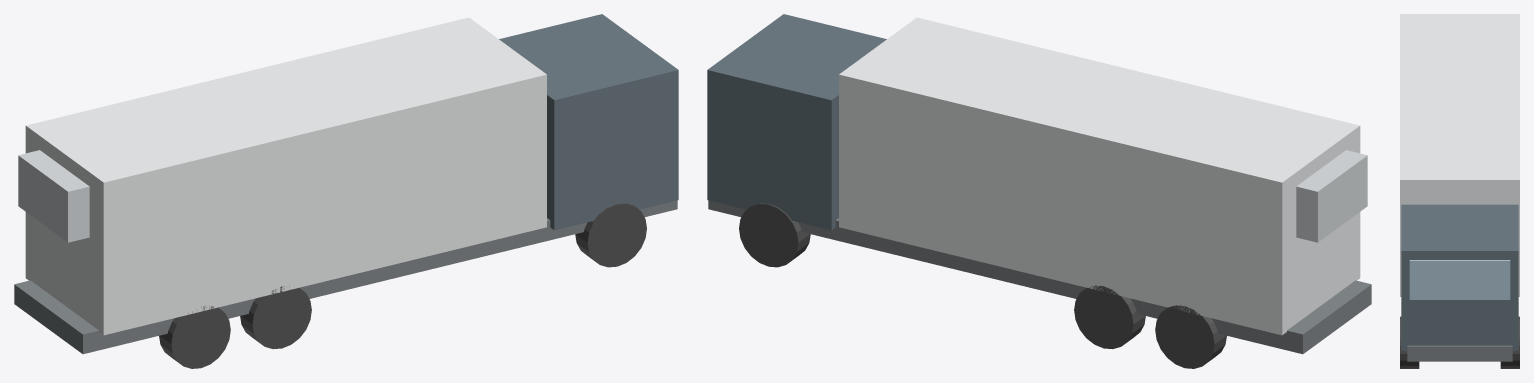
Rendered from camion.glb.
3 views of the same model, side by side, from view 1: azimuth 30°, elevation 25°; view 2: azimuth 150°, elevation 25°; view 3: azimuth 270°, elevation 25° (orthographic). The views are drawn at different scales.
Parts seen in each view (by area): view 1: caja_frigorifica, cabina, chasis, equipo_frio, geometry_6, geometry_8, geometry_10; view 2: caja_frigorifica, cabina, chasis, equipo_frio, geometry_9, geometry_5, geometry_7; view 3: caja_frigorifica, cabina, parabrisas, chasis, geometry_5, geometry_6.
Boxes of the visible parts, box(x1,y1,x2,y2) form: caja_frigorifica: box(25, 17, 546, 335); cabina: box(499, 14, 678, 230); chasis: box(14, 200, 677, 354); equipo_frio: box(18, 150, 89, 242); geometry_6: box(575, 203, 646, 267); geometry_8: box(240, 286, 311, 349); geometry_10: box(159, 306, 230, 368); caja_frigorifica: box(839, 17, 1360, 335); cabina: box(707, 14, 886, 230); chasis: box(708, 200, 1371, 354); equipo_frio: box(1296, 150, 1367, 242); geometry_9: box(1155, 305, 1226, 368); geometry_5: box(739, 203, 810, 267); geometry_7: box(1074, 285, 1145, 349); caja_frigorifica: box(1400, 14, 1519, 296); cabina: box(1401, 204, 1518, 350); parabrisas: box(1409, 260, 1510, 299); chasis: box(1407, 345, 1512, 361); geometry_5: box(1500, 316, 1519, 368); geometry_6: box(1400, 316, 1419, 368).
Bounding box in the file's own units: 11.1 × 3.7 × 2.5.
